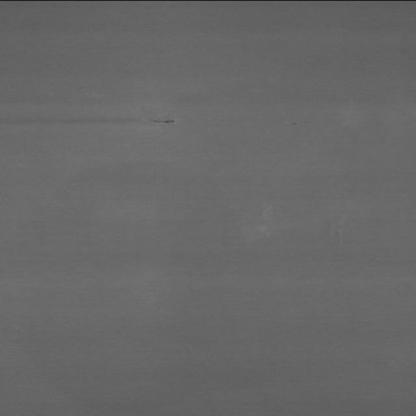inclusion: (141, 111, 188, 129)
